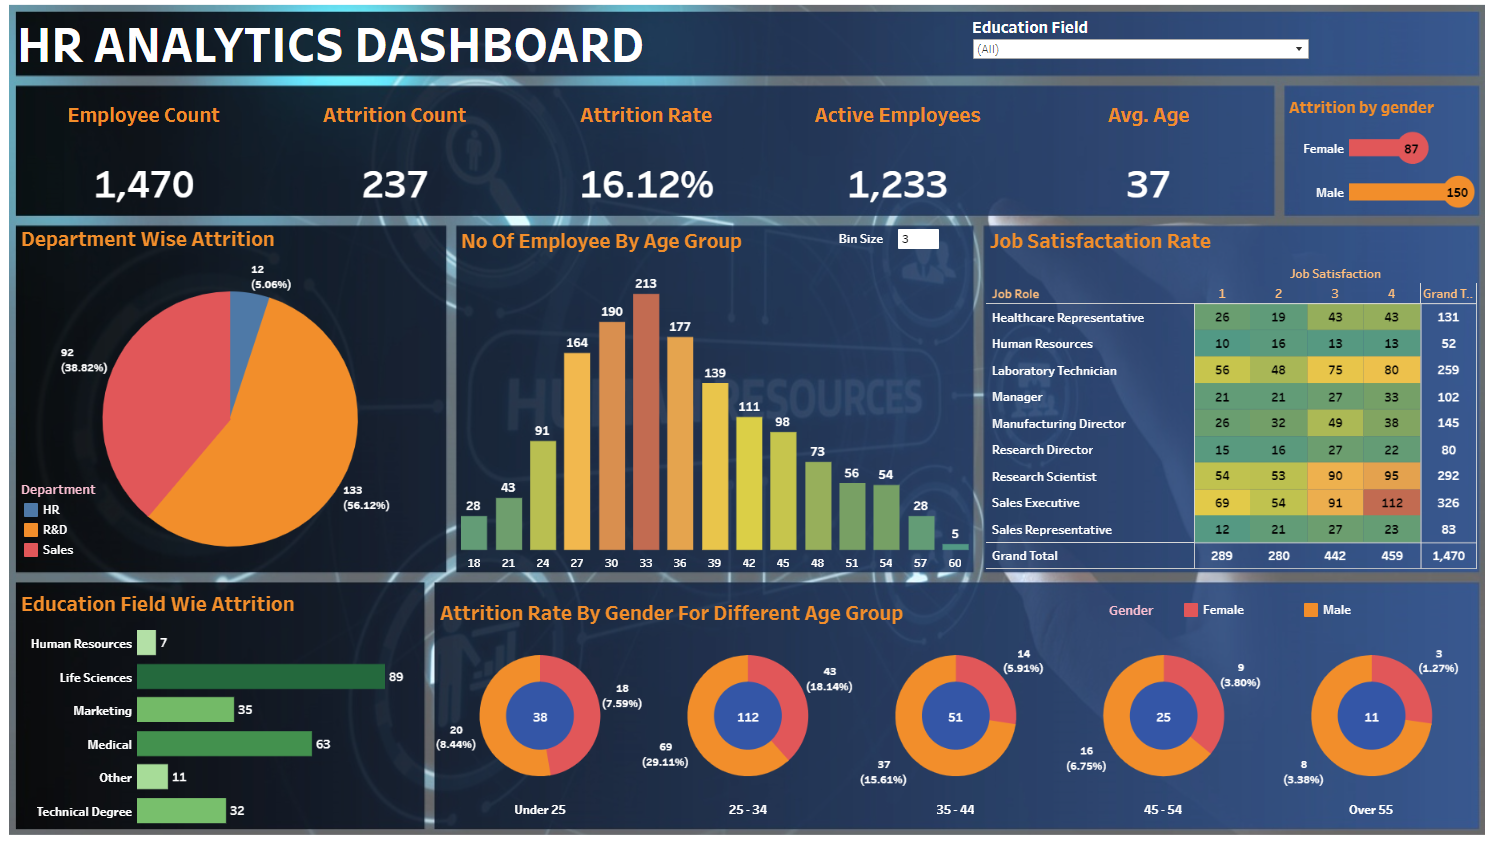

What the dashboard file says about the page in this screenshot:
{"tool":"tableau","page":{"name":"HR ANALYTICS DASHBOARD","canvas":[1500,900],"ordinal":0},"visuals":[{"type":"image","param":"Image/HR background.png","box":[8,8,1484,884]},{"type":"text","box":[20,41,1199,63]},{"type":"filter","title":"Education Field Wie Attrition","param":"[federated.0fn3agt1sv5b1c1d3tq6s1h6qc3f].[none:Education Field:nk]","box":[975,45,338,53]},{"type":"worksheet","title":"KPI","mark":"Automatic","box":[21,117,1256,137]},{"type":"worksheet","title":"Attrition by gender","mark":"Automatic","rows":["Gender"],"cols":["Calculation_698057952617205760","Calculation_698057952617205760"],"box":[1288,118,195,125]},{"type":"worksheet","title":"Department Wise Attrition","mark":"Pie","box":[20,248.5,426,358.1]},{"type":"worksheet","title":"No Of Employee By Age Group","mark":"Automatic","rows":["Employee Count"],"cols":["Age (bin)"],"box":[460,250,515,350]},{"type":"worksheet","title":"Job Satisfactation Rate","mark":"Square","rows":["Job Role"],"cols":["Job Satisfaction"],"box":[989,250,491,349]},{"type":"parameter","param":"[Parameters].[Parameter 1]","box":[828,258.9,115,26.1]},{"type":"legend","title":"Department Wise Attrition","param":"[federated.0fn3agt1sv5b1c1d3tq6s1h6qc3f].[none:Department:nk]","box":[24,509.5,107,97.1]},{"type":"worksheet","title":"Education Field Wie Attrition","mark":"Automatic","rows":["Education Field"],"cols":["Calculation_698057952617205760"],"box":[20,613,404,244]},{"type":"worksheet","title":"Attrition Rate By Gender For Different Age Group","mark":"Pie","rows":["Calculation_853713615009923073","Calculation_853713615009923073"],"cols":["CF_age band"],"box":[439,622.3,1039,253.7]},{"type":"legend","title":"Attrition Rate By Gender For Different Age Group","param":"[federated.0fn3agt1sv5b1c1d3tq6s1h6qc3f].[none:Gender:nk]","box":[1112,629.6,326,32.4]}]}

Visuals, with their boxes in screenshot pixels (x1, y1, x2, y2):
image: 8,0,1483,842
text: 20,2,1211,64
"Education Field Wie Attrition" filter: 969,6,1305,59
"KPI" worksheet: 21,77,1269,214
"Attrition by gender" worksheet: 1280,78,1474,203
"Department Wise Attrition" worksheet (Pie marks): 20,208,443,564
"No Of Employee By Age Group" worksheet: 457,210,969,557
"Job Satisfactation Rate" worksheet (Square marks): 983,210,1471,556
parameter: 823,218,937,244
"Department Wise Attrition" legend: 24,467,130,564
"Education Field Wie Attrition" worksheet: 20,570,421,813
"Attrition Rate By Gender For Different Age Group" worksheet (Pie marks): 436,579,1469,832
"Attrition Rate By Gender For Different Age Group" legend: 1105,587,1429,619
